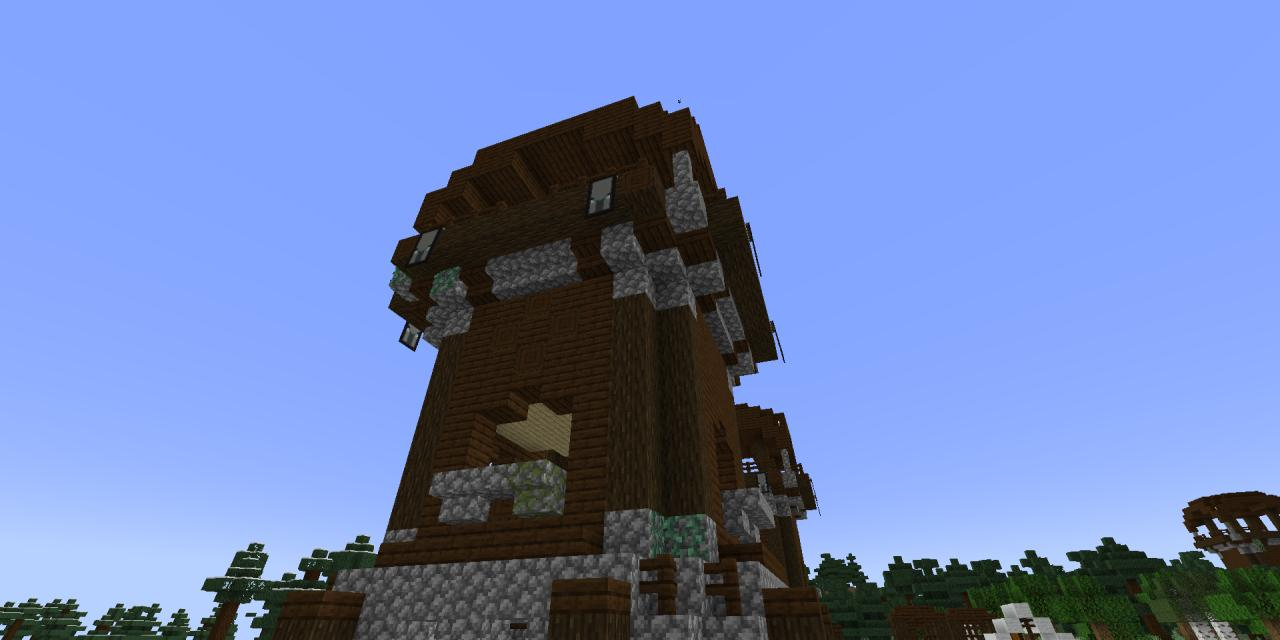pillager outpost: (231, 82, 803, 640), (725, 390, 840, 620), (1173, 479, 1280, 577)
